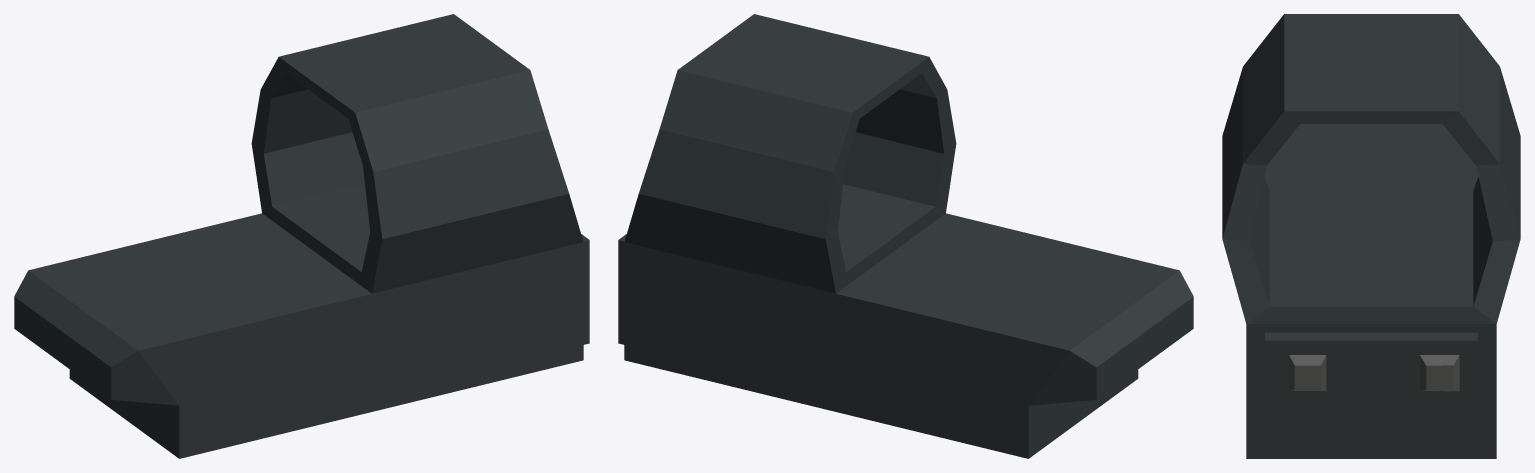
File: apoc_SM_Wep_SubMGun_02_Sight_01.gltf
3 views of the same model, side by side, from view 1: azimuth 30°, elevation 25°; view 2: azimuth 150°, elevation 25°; view 3: azimuth 270°, elevation 25° (orthographic). The views are drawn at different scales.
Parts seen in each view (by area): view 1: SM_Wep_SubMGun_02_Sight_01; view 2: SM_Wep_SubMGun_02_Sight_01; view 3: SM_Wep_SubMGun_02_Sight_01.
Boxes of the visible parts, left/top/right/bottom form: SM_Wep_SubMGun_02_Sight_01: left=14, top=14, right=589, bottom=458; SM_Wep_SubMGun_02_Sight_01: left=618, top=14, right=1193, bottom=458; SM_Wep_SubMGun_02_Sight_01: left=1222, top=14, right=1520, bottom=458.
Size of the model in its own units: 0.1112 by 0.0624 by 0.0515.
Materials: 1 (1 with a texture image).
